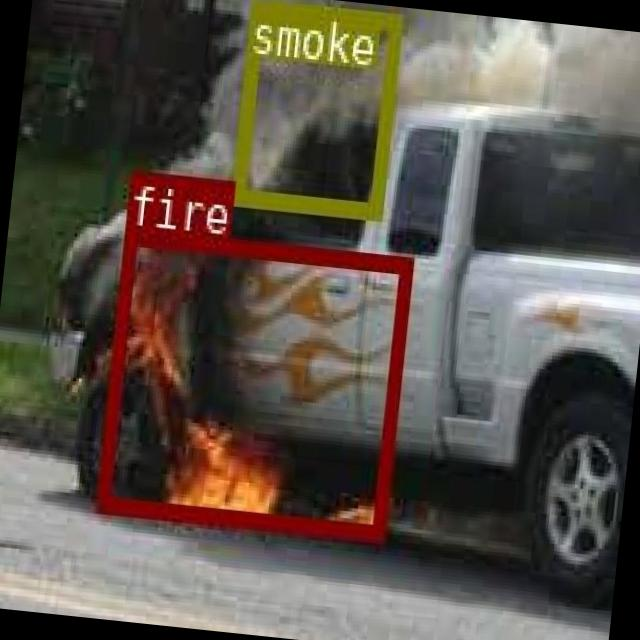fire: (96, 224, 411, 538)
smoke: (228, 0, 399, 217)
